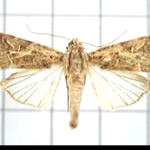Spodoptera litura: (0, 23, 149, 129)
